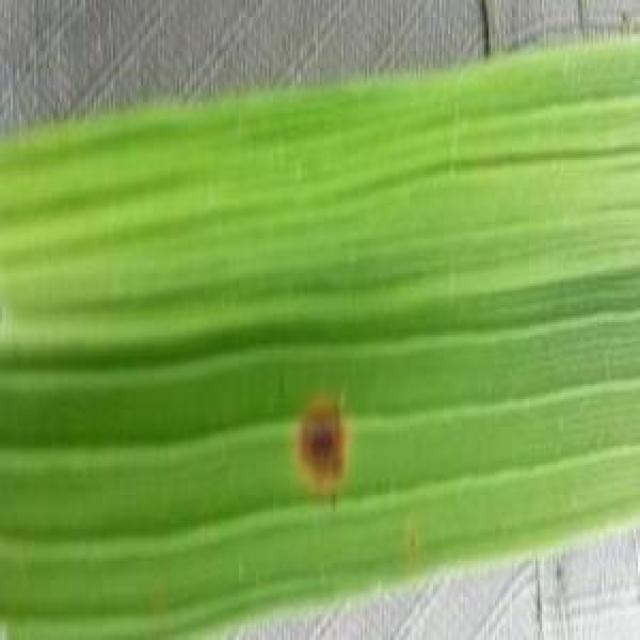Brown_Spot: (285, 384, 364, 492)
